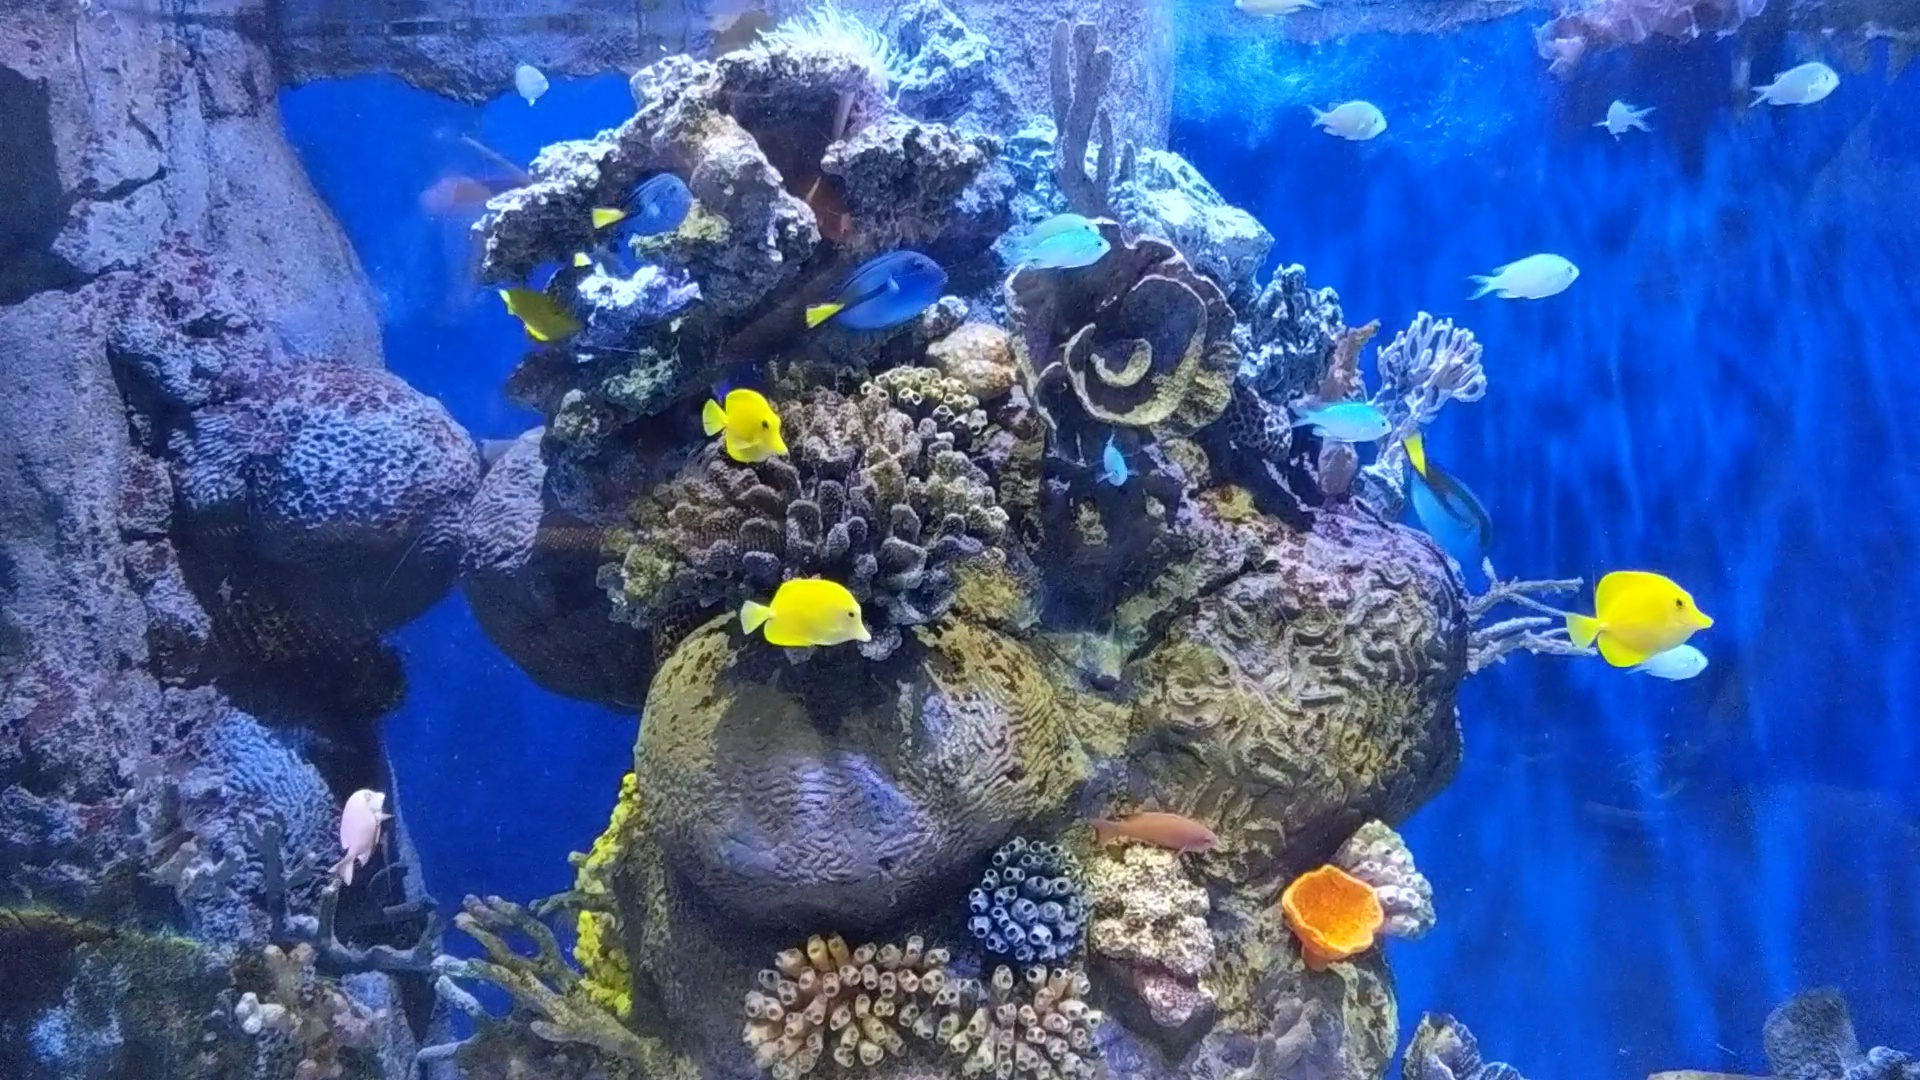blue tang surgeonfish: (1402, 429, 1501, 593), (806, 241, 955, 340), (575, 166, 698, 272)
damselfish: (1460, 247, 1582, 309), (992, 231, 1121, 277), (1618, 633, 1710, 691), (1291, 397, 1396, 447), (1741, 55, 1842, 105), (1305, 88, 1389, 149), (1007, 212, 1118, 256), (1590, 90, 1669, 144), (1088, 425, 1139, 495), (500, 55, 564, 105)
saddle butterfly fish: (1559, 564, 1716, 669), (735, 568, 882, 649), (698, 389, 794, 465), (495, 270, 583, 342)
